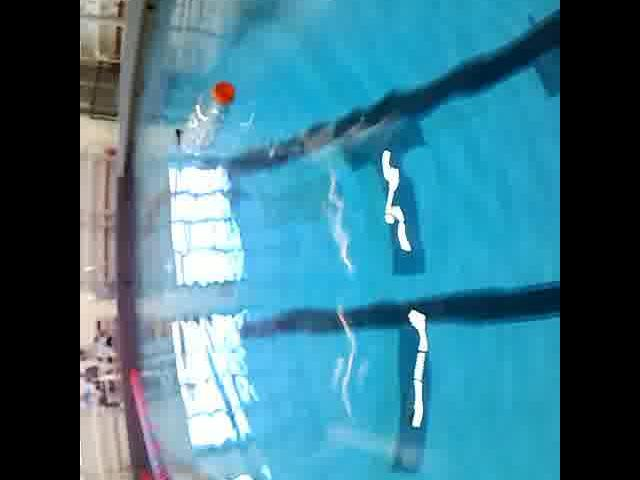Bottle: (179, 75, 237, 157)
